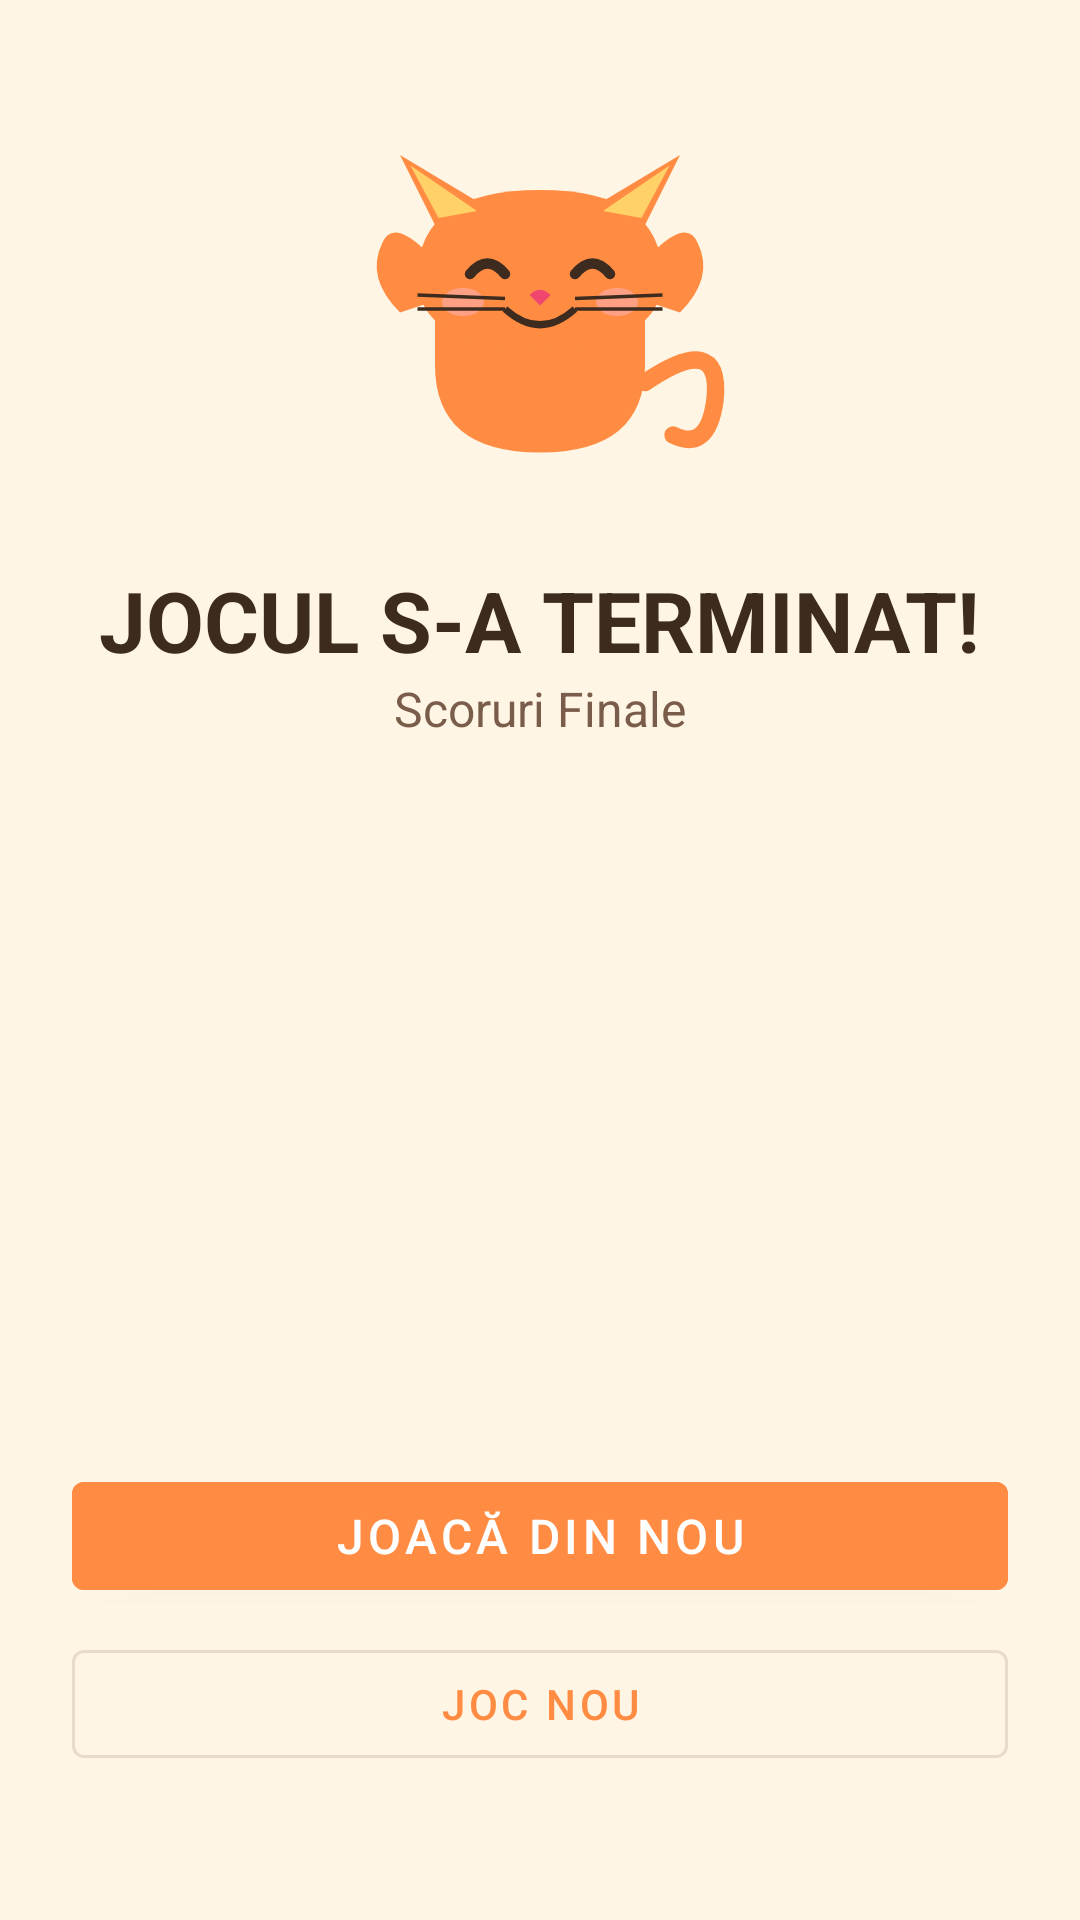

Icons on this 1080 x 1920 Android screen, each with its box as (x1, y1, x2, y2):
cat happy: (376, 155, 725, 453)
